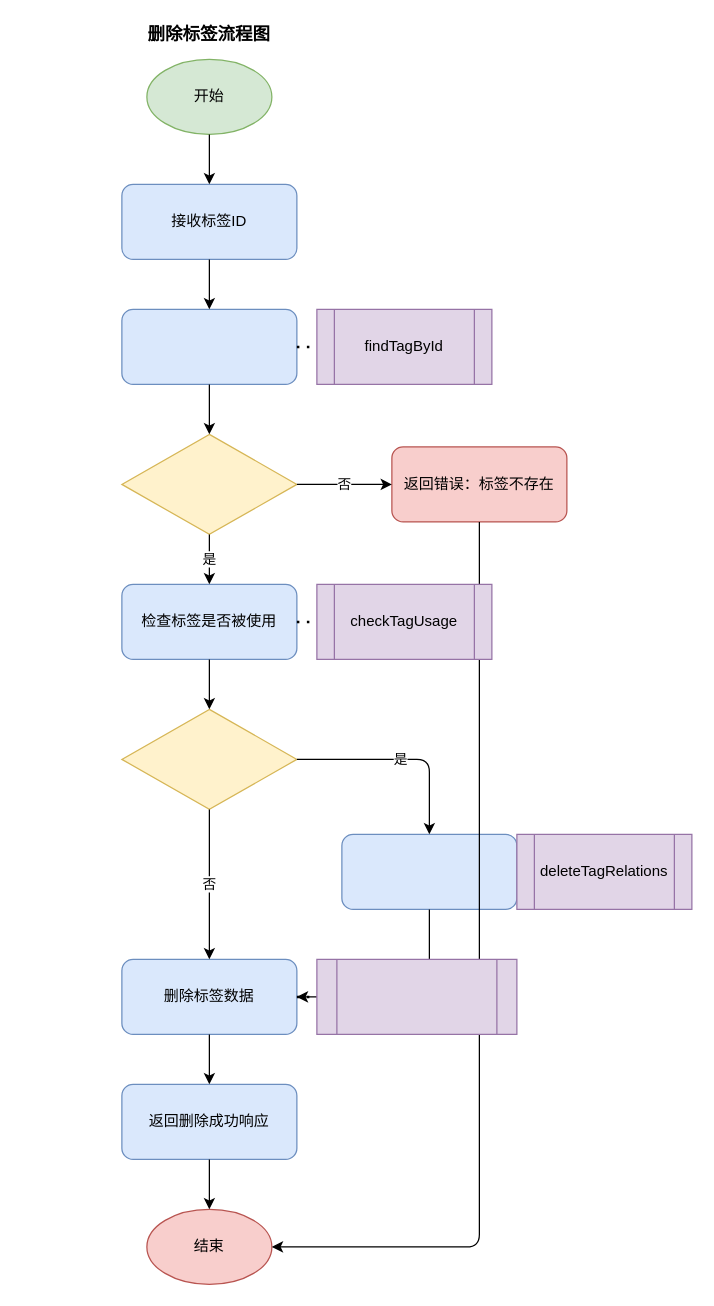
Image size: 714x1306. Some labels were removed from this diagram. The centre of each missing label's shape, as x and y in pixels:
"deleteTagFromDatabase" belongs at [416,996].
"删除标签关联关系" belongs at [429,871].
"标签存在？" belongs at [209,483].
"标签被使用？" belongs at [209,758].
"验证标签ID存在" belongs at [209,346].
